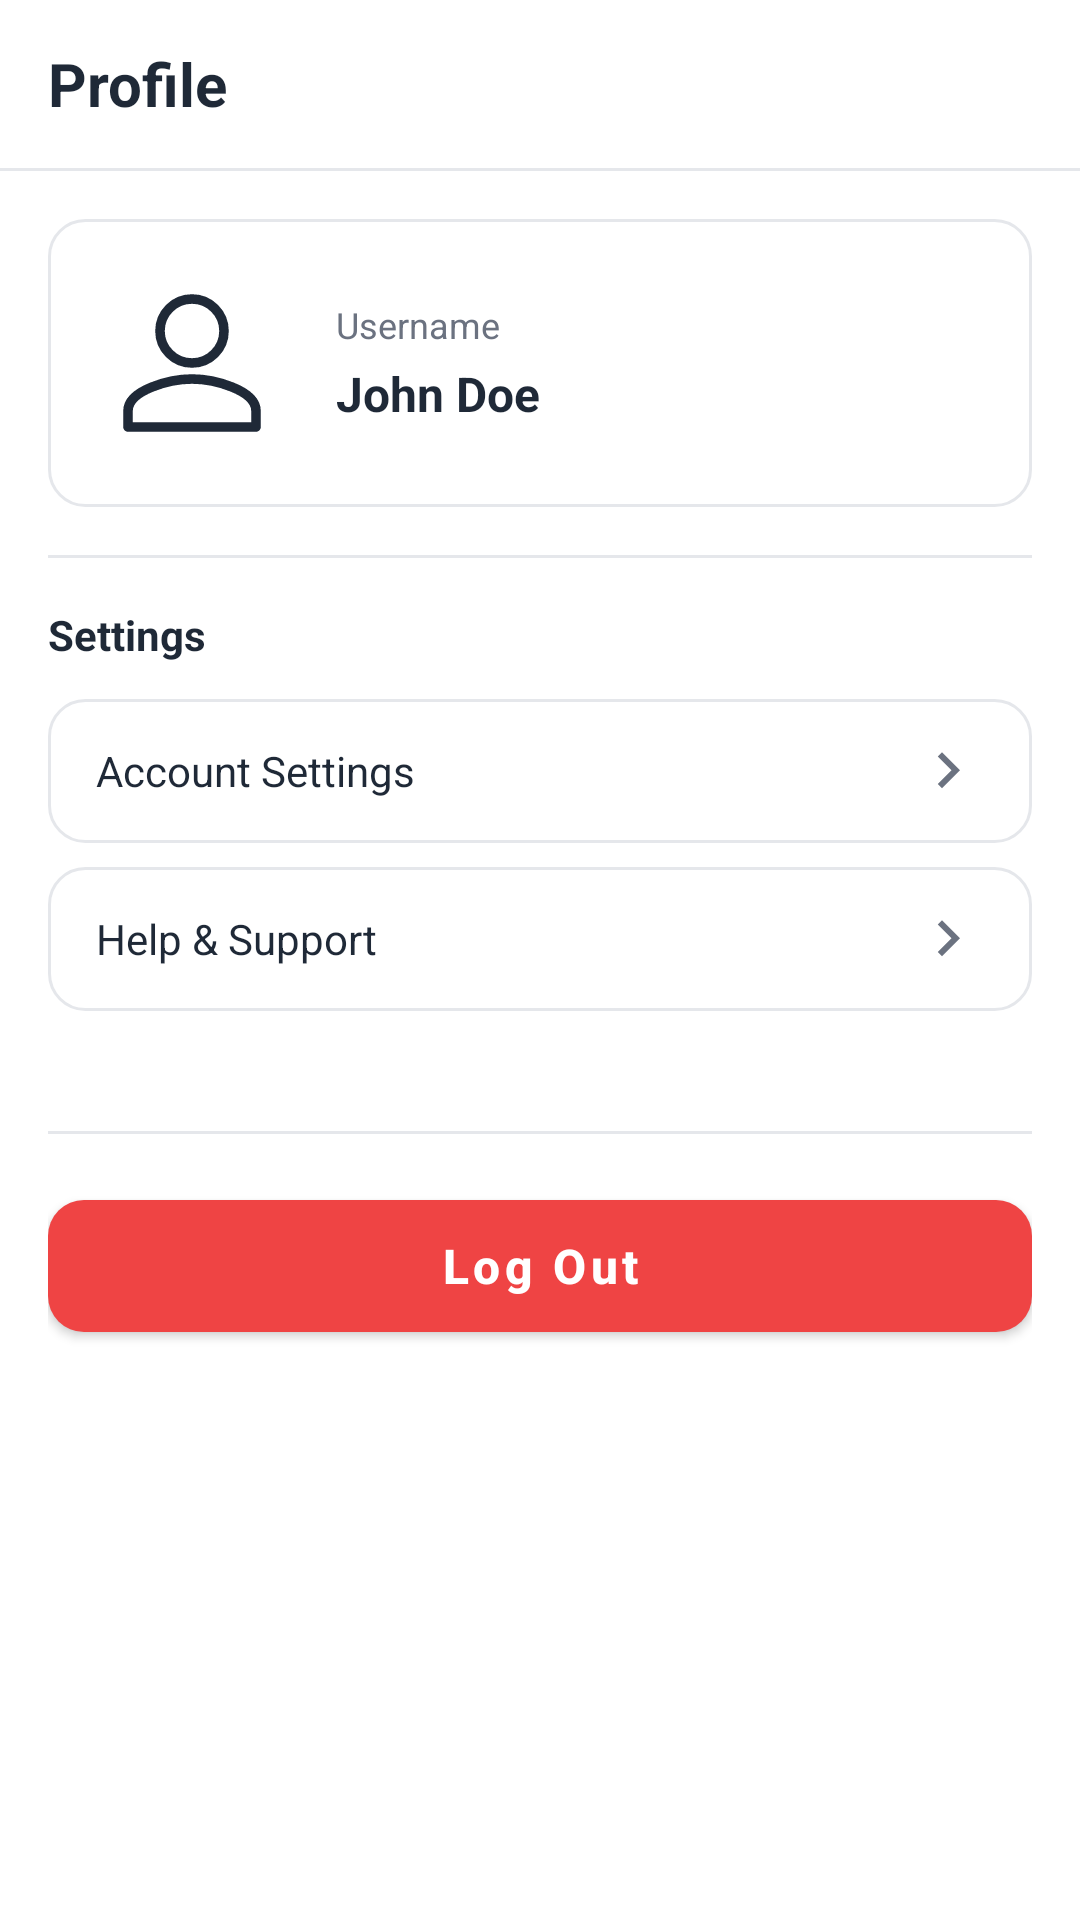

Where to tap for icons on this 1080 x 1920 app screen, as (x=x, y=y):
Arrow: (x=949, y=770), (x=949, y=938)
